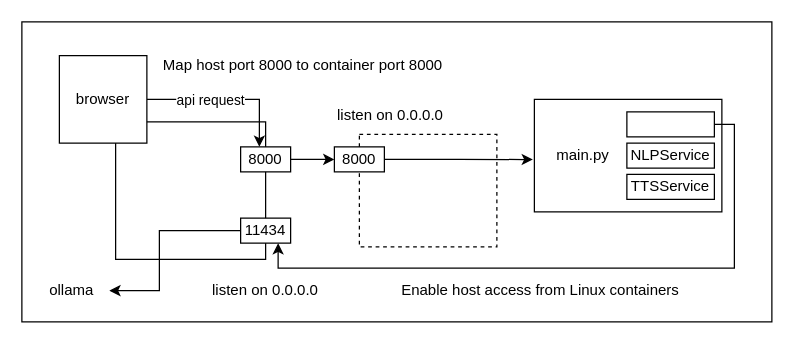
Some shapes in this 794 by 344 pixel diagram are drawn without their labels. Here are the shapes that lost their labels. From the top down, the box of each, then its label:
(626, 111, 714, 137): LLMService
(114, 121, 266, 259): localhost
(358, 133, 497, 247): backend container
